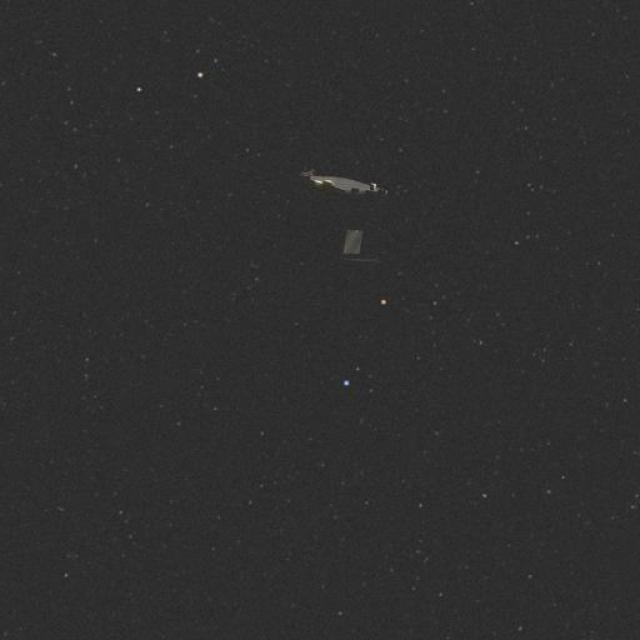proba_3_ocs: (286, 161, 427, 281)
